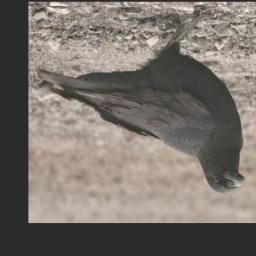Crow: (35, 10, 244, 195)
